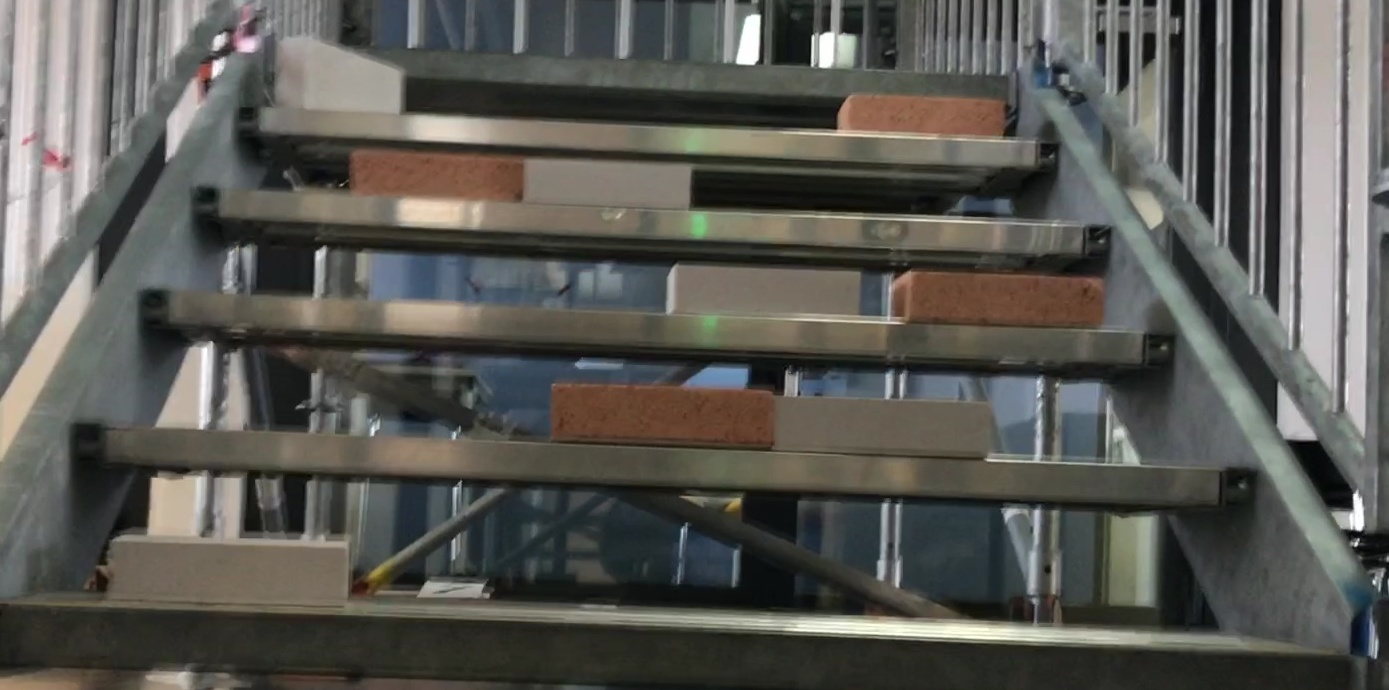brick: (109, 536, 347, 607), (776, 396, 989, 461), (552, 386, 771, 448), (894, 273, 1104, 325), (665, 265, 859, 316), (280, 37, 398, 114), (352, 149, 521, 202), (527, 158, 689, 206), (837, 94, 1005, 138)
edge: (76, 419, 1249, 522), (5, 602, 1350, 685), (136, 290, 1176, 379), (193, 189, 1111, 262), (236, 103, 1060, 168), (264, 34, 1018, 105)
